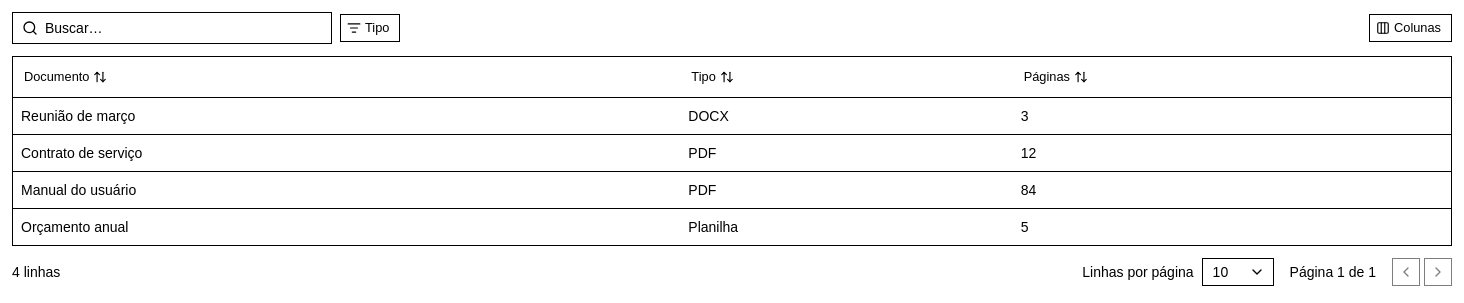
Test: DataTable, modo client › a faceta respeita a busca: a contagem mostra só o que sobra
The image size is (1464, 303).
Type "contrato" into the search field. click: (172, 28)
box: [12,12,332,44]
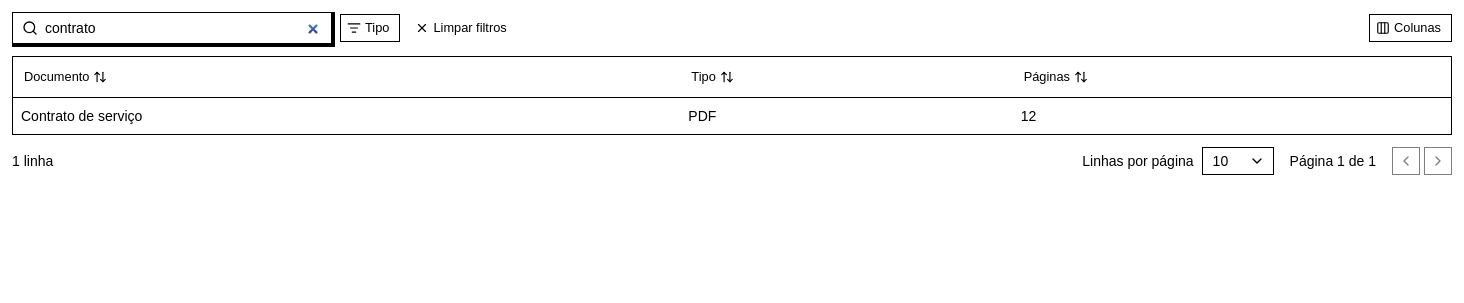
Click the 1st button "Tipo". click: click(370, 28)
box: [340,14,400,42]
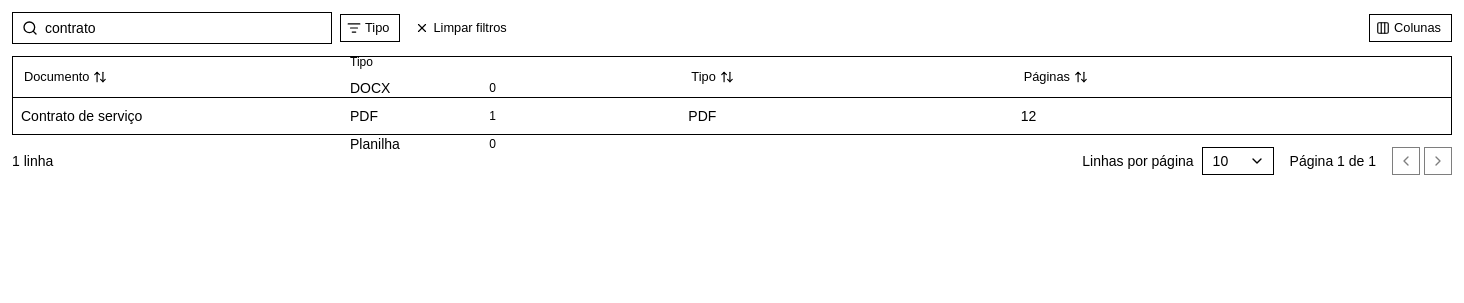
Check: the menu item "PDF 1" is shown, box [350,108,496,124]
Check: the menu item "DOCX 0" is shown, box [350,80,496,96]
